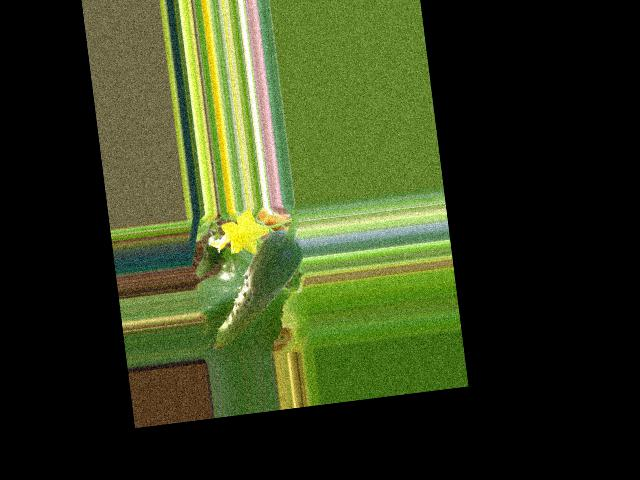cucumber: (199, 228, 312, 350)
